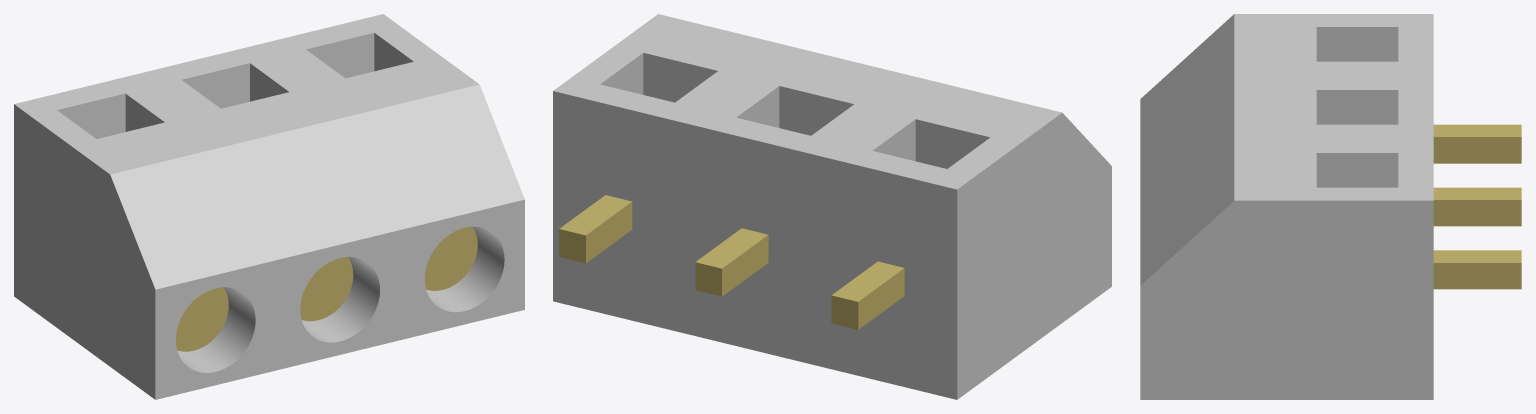
File: screw_terminal_5_08_3pin.glb
The picture shows the model from 3 angles, left to right: view 1: azimuth 30°, elevation 25°; view 2: azimuth 150°, elevation 25°; view 3: azimuth 270°, elevation 25°; orthographic projection. The views are drawn at different scales.
Parts seen in each view (by area): view 1: world; view 2: world; view 3: world.
Part boxes in pixels (x1,y1,x2,y2): world: (14,14,524,399); world: (553,14,1111,399); world: (1140,14,1521,399).
Size of the model in its own units: 15.08 by 7.5 by 13.
